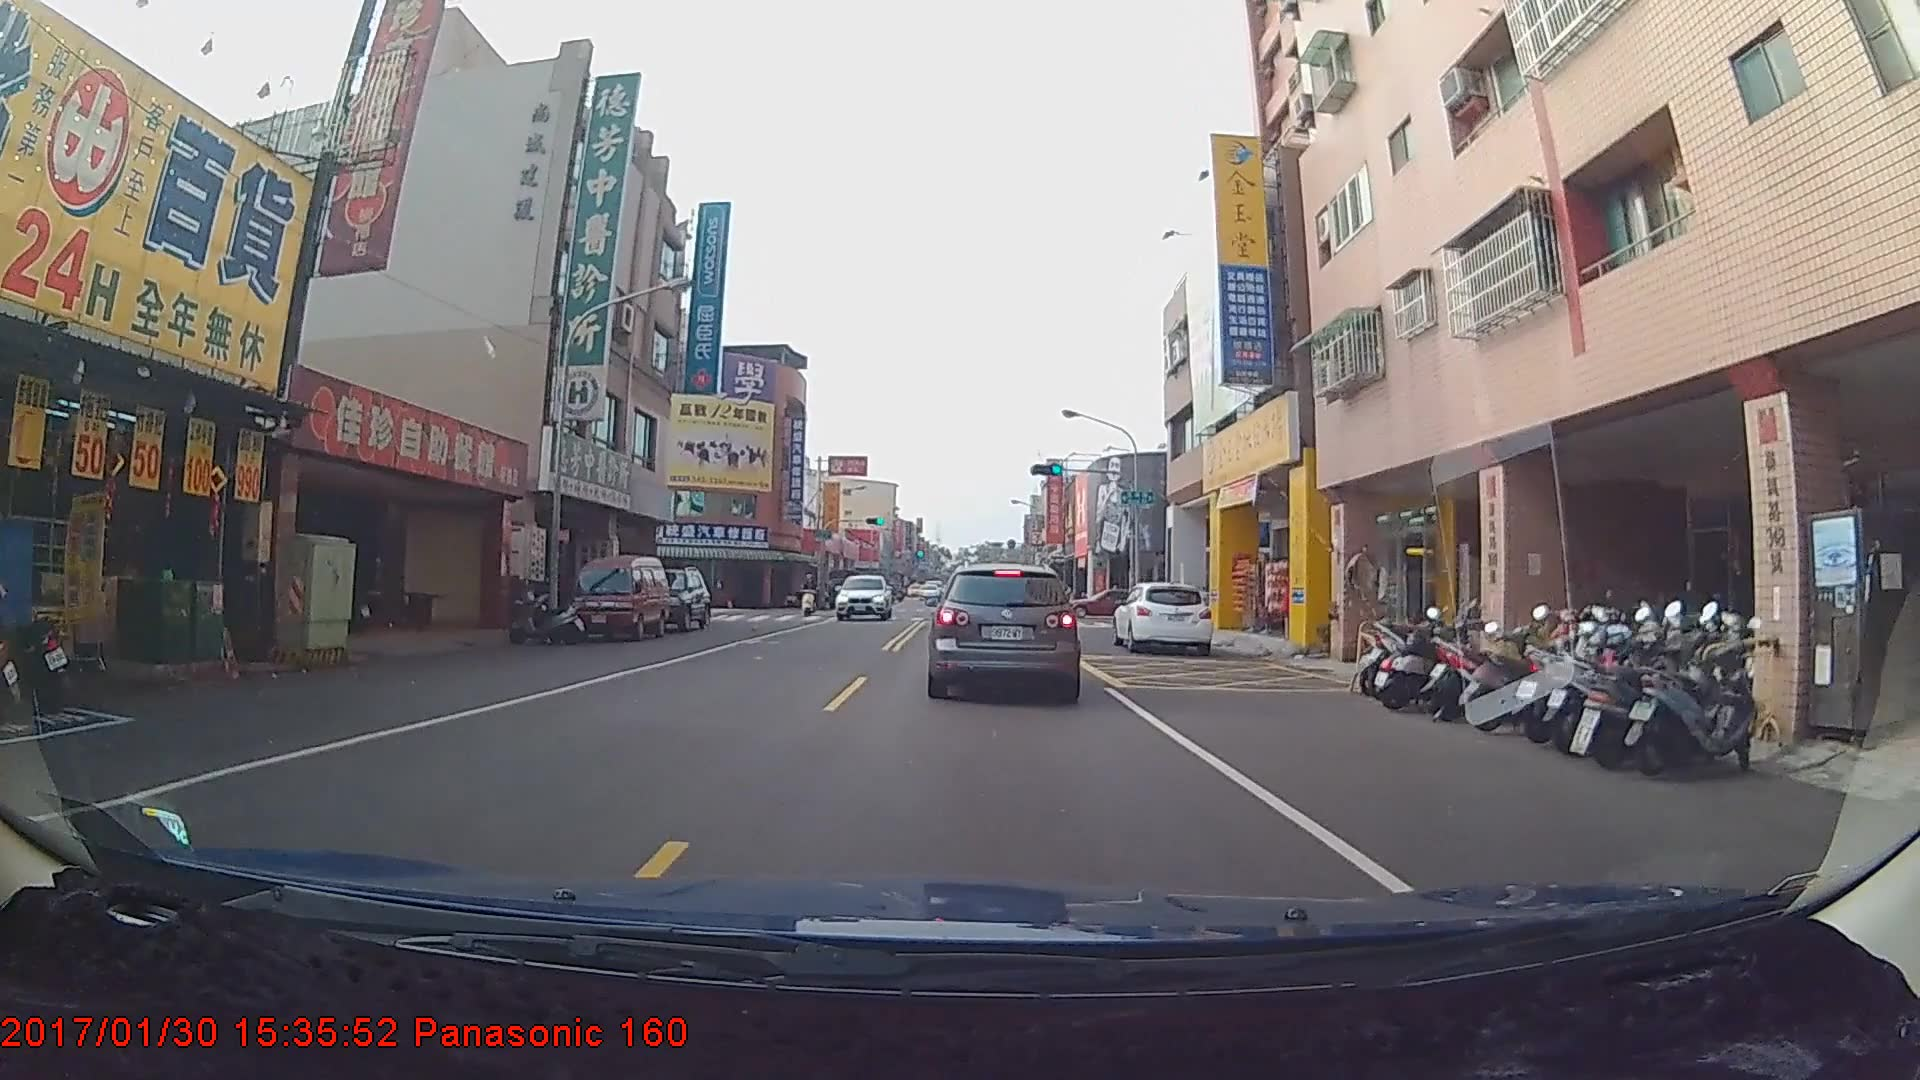rider: (800, 574, 824, 618)
vehicle: (929, 560, 1079, 698), (567, 555, 670, 641), (1114, 580, 1213, 655), (634, 565, 712, 632), (832, 571, 885, 616)
